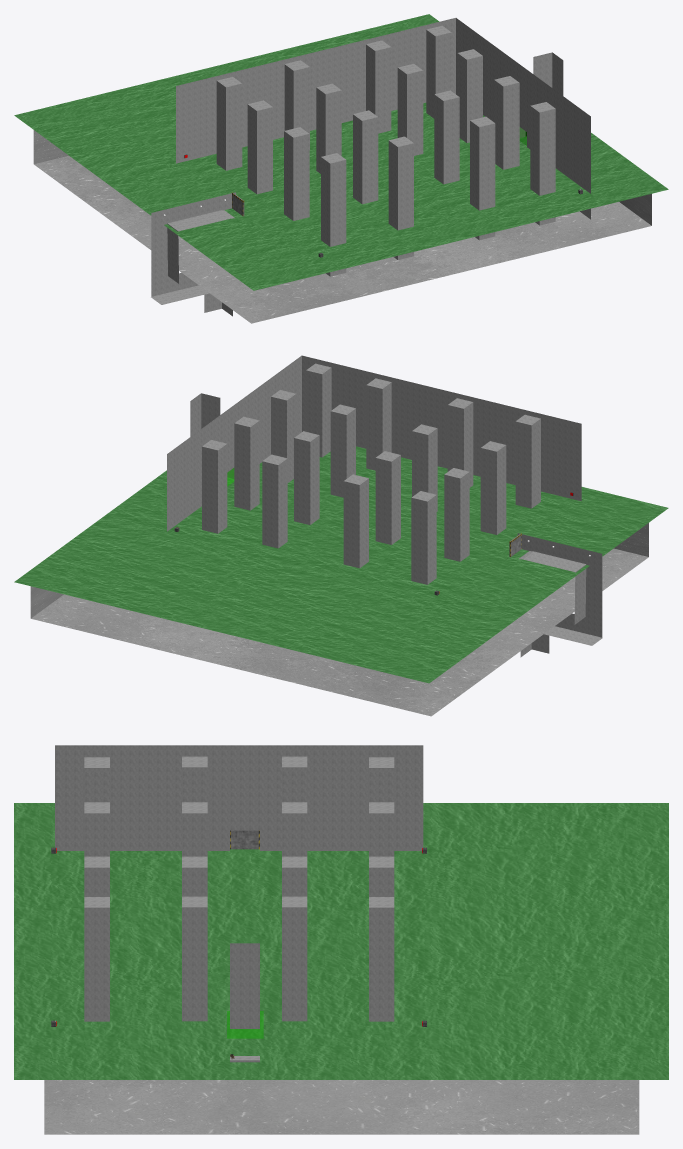
The model's file is big_scary_level_2.glb.
The picture shows the model from 3 angles, top to bottom: view 1: azimuth 30°, elevation 25°; view 2: azimuth 150°, elevation 25°; view 3: azimuth 270°, elevation 25°; orthographic projection. The views are drawn at different scales.
Parts seen in each view (by area): view 1: Plane.002_14, Map2_73, water colider_72, Cube (4).015_54, Cube (6).008_56, Cube (10).007_44, Cube (8).008_58, Cube (5).009_55, Cube (17).003_51, Cube (18).003_52, Cube (12).005_46, Cube (11).007_45 (+7 smaller); view 2: Plane.002_14, Map2_73, water colider_72, Cube (17).003_51, Cube (16).004_50, Cube (18).003_52, Cube (6).008_56, Cube (5).009_55, Cube (3).016_53, Cube (7).012_57, Cube (14).003_48, Cube (9).007_59 (+7 smaller); view 3: Plane.002_14, water colider_72, Map2_73, Cube (15).002_49, Cube (16).004_50, Cube (3).016_53, Cube (4).015_54, Cube (11).007_45, Cube (13).005_47, Cube (7).012_57, Cube (8).008_58, Cube (17).003_51 (+8 smaller).
Part boxes in pixels (box(x1,y1,x2,y2)): Plane.002_14: box(14, 14, 668, 290); Map2_73: box(151, 18, 590, 316); water colider_72: box(33, 130, 651, 323); Cube (4).015_54: box(530, 102, 555, 225); Cube (6).008_56: box(321, 153, 346, 276); Cube (10).007_44: box(470, 116, 495, 240); Cube (8).008_58: box(388, 136, 413, 259); Cube (5).009_55: box(216, 77, 242, 170); Cube (17).003_51: box(284, 127, 309, 220); Cube (18).003_52: box(247, 100, 272, 194); Cube (12).005_46: box(434, 90, 459, 184); Cube (11).007_45: box(353, 110, 378, 204); Plane.002_14: box(14, 446, 668, 683); Map2_73: box(167, 355, 602, 657); water colider_72: box(30, 523, 648, 716); Cube (17).003_51: box(480, 441, 506, 534); Cube (16).004_50: box(234, 416, 259, 510); Cube (18).003_52: box(444, 468, 469, 561); Cube (6).008_56: box(515, 414, 540, 508); Cube (5).009_55: box(411, 491, 436, 584); Cube (3).016_53: box(202, 440, 227, 533); Cube (7).012_57: box(343, 474, 368, 568); Cube (14).003_48: box(294, 431, 319, 524); Cube (9).007_59: box(262, 454, 287, 548); Plane.002_14: box(14, 803, 668, 1079); water colider_72: box(44, 1080, 639, 1134); Map2_73: box(55, 745, 423, 1062); Cube (15).002_49: box(182, 896, 207, 1021); Cube (16).004_50: box(282, 896, 307, 1021); Cube (3).016_53: box(369, 897, 394, 1021); Cube (4).015_54: box(84, 897, 109, 1021); Cube (11).007_45: box(182, 802, 207, 856); Cube (13).005_47: box(282, 802, 307, 856); Cube (7).012_57: box(369, 802, 394, 856); Cube (8).008_58: box(84, 802, 109, 856); Cube (17).003_51: box(182, 756, 207, 802).
Bounding box in the file's own units: 73.46 × 29.72 × 71.2.
Materials: 19 (14 with a texture image).
